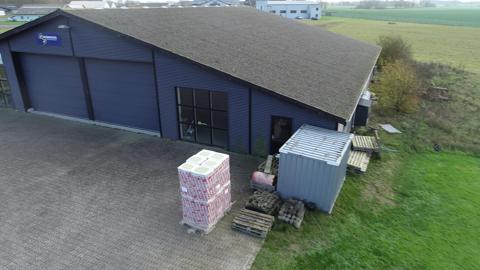RockwoolPallet: (176, 147, 233, 233)
